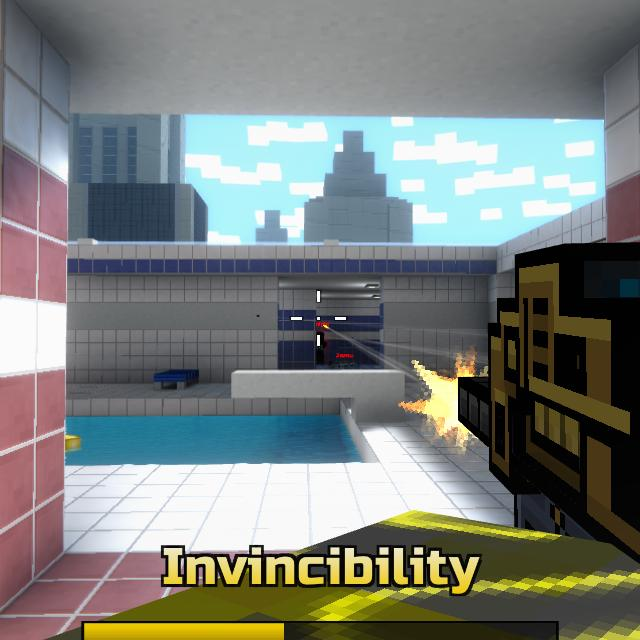Enemy: (316, 331, 327, 365)
